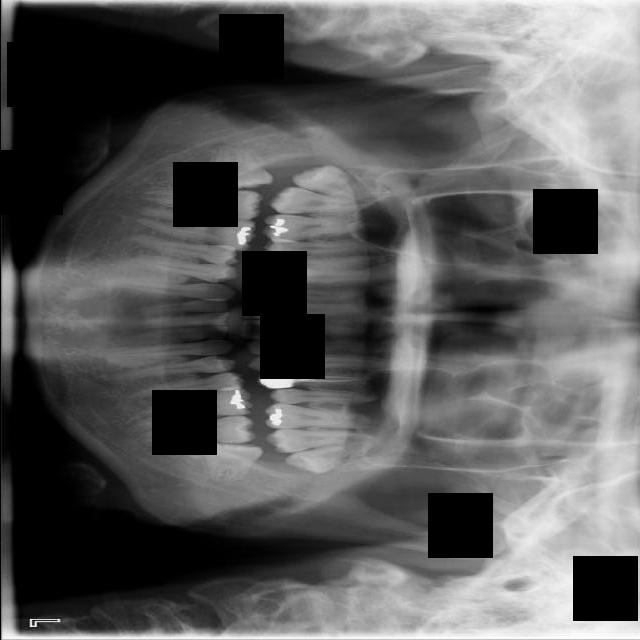3M ESPE Implant: (288, 156, 392, 210)
52: (216, 215, 257, 254), (212, 382, 252, 420), (263, 213, 299, 242), (256, 366, 291, 391), (265, 404, 297, 429)
73: (285, 368, 369, 391), (82, 589, 100, 596)
BioHorizons Implant: (264, 426, 372, 453)
BioLife Implant: (282, 440, 374, 479)
Biomet 3i Implant: (196, 441, 263, 486)
Blue Sky Bio Implant: (139, 416, 255, 444)
Caries: (266, 186, 372, 214)
Implant: (145, 183, 262, 222)
Keystone Dental Implant: (208, 145, 276, 196)
